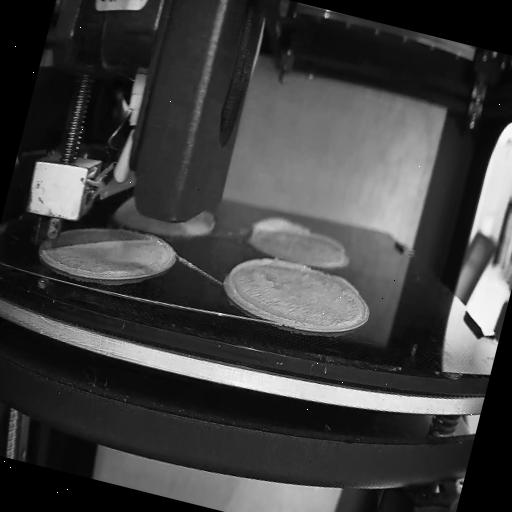over_extrusion: (219, 248, 312, 328), (52, 217, 155, 278), (245, 206, 311, 254), (326, 272, 363, 298), (316, 233, 348, 256)
